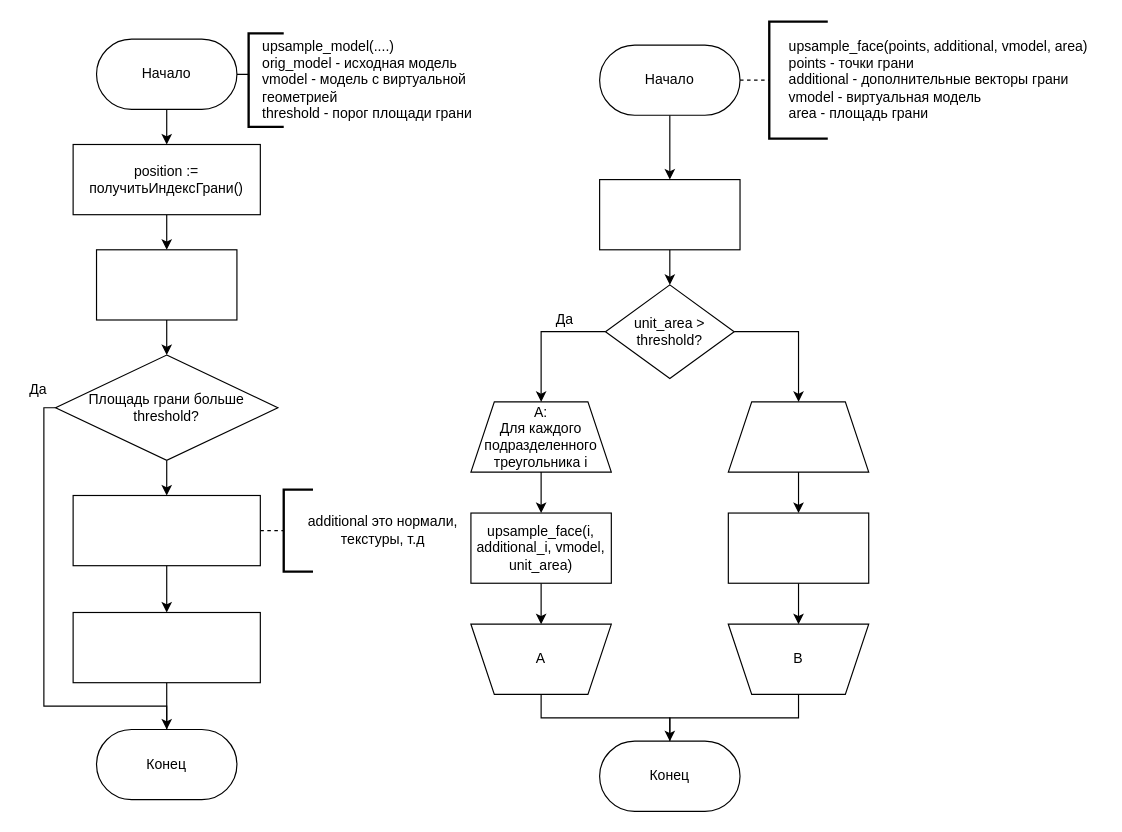
Some shapes in this 1122 by 832 pixel diagram are drawn without their labels. The centre of each missing label's shape, as x and y in pixels:
"B: Для каждого подразделенного треугольника i" belongs at [798,436].
"points := получитьТочкиГрани additional := получитьДопГрани()" belongs at [166,530].
"unit_area = area / 4" belongs at [669,214].
"upsample_face(points, additional, vmodel, площадь)" belongs at [166,647].
"добавитьВМодель(i, additional_i, vmodel, unit_area)" belongs at [798,547].
"Считать из буфера площадь грани" belongs at [166,284].
